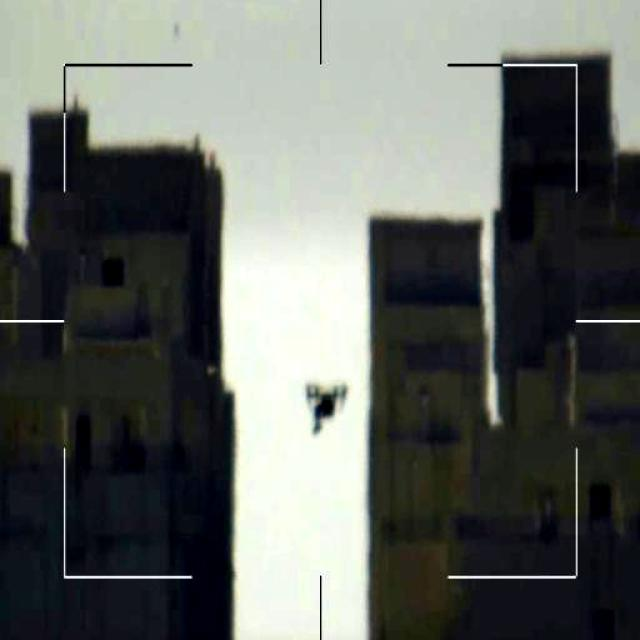bird: (302, 372, 354, 445)
